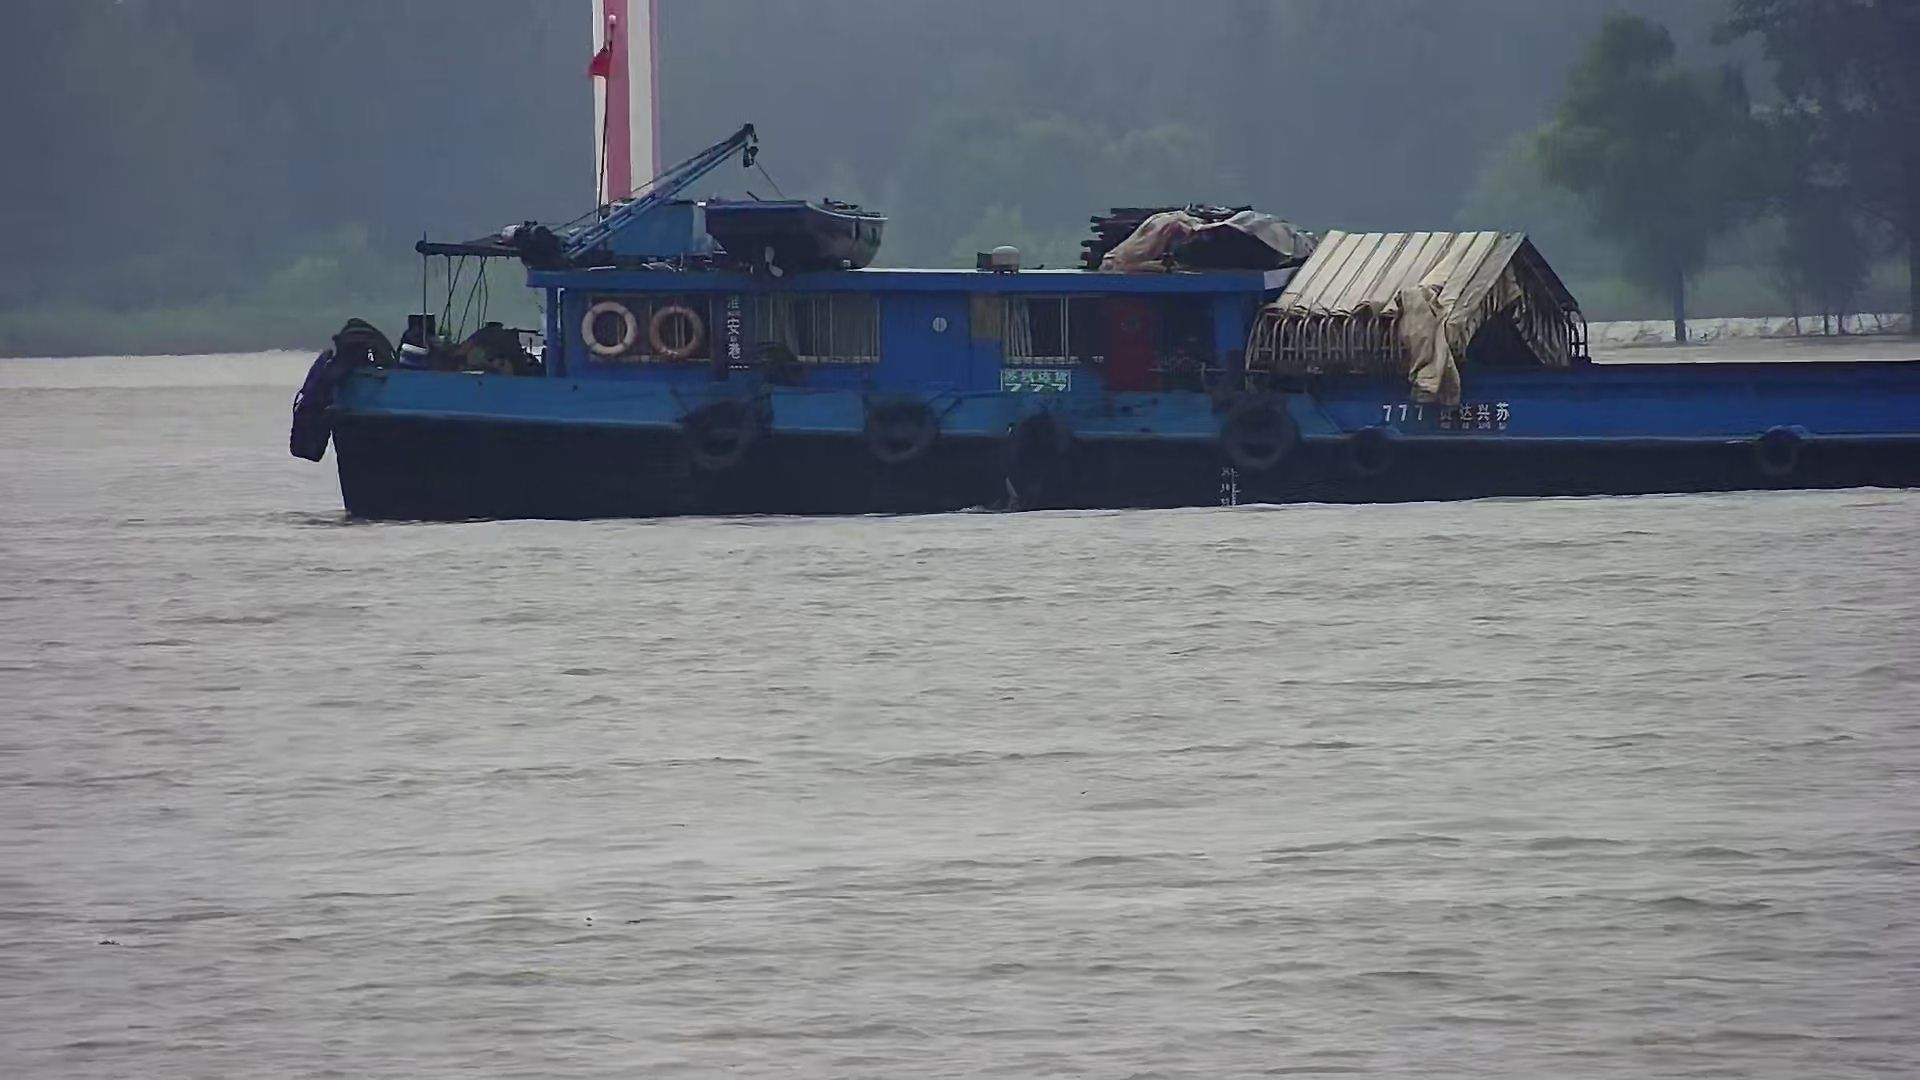ship: (285, 117, 1920, 524)
tree: (1542, 25, 1774, 342), (1760, 3, 1920, 336)
